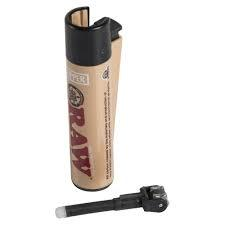lighter: (64, 6, 124, 194)
